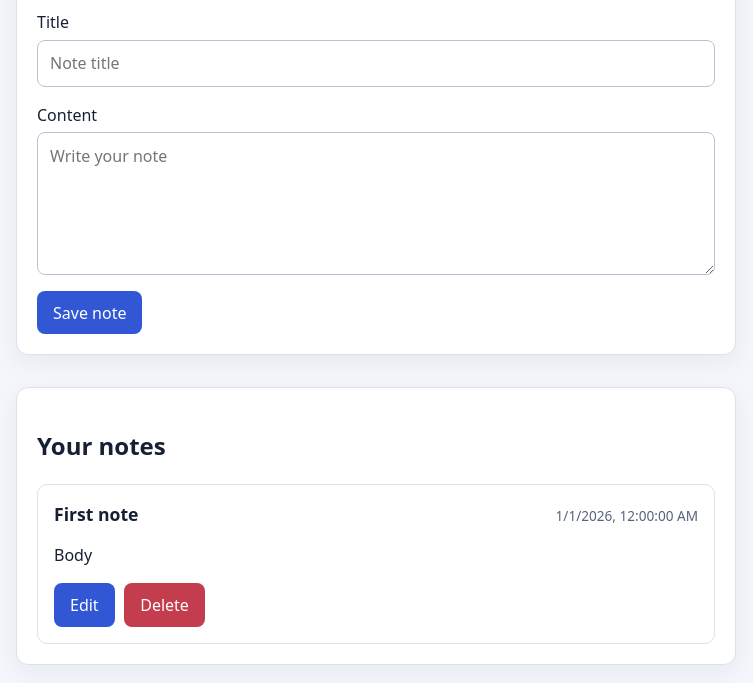
notes app › deletes a note
(page scrolled)
Click the button "Delete" at point(165, 605), box [124,583,205,627]
(page scrolled)
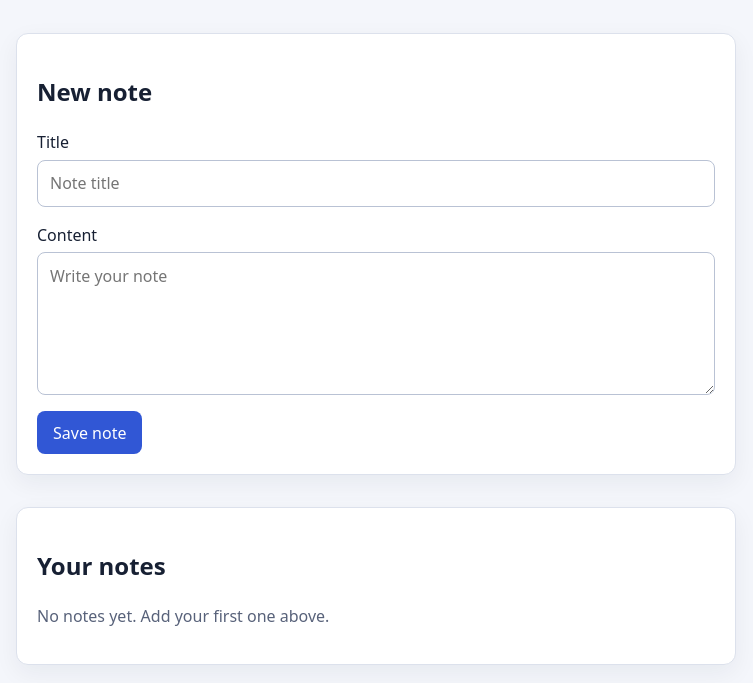
Check: the heading "First note" is gone
